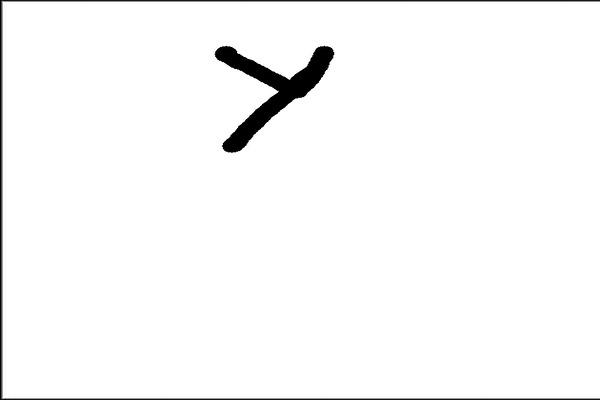Y: (206, 34, 349, 163)
